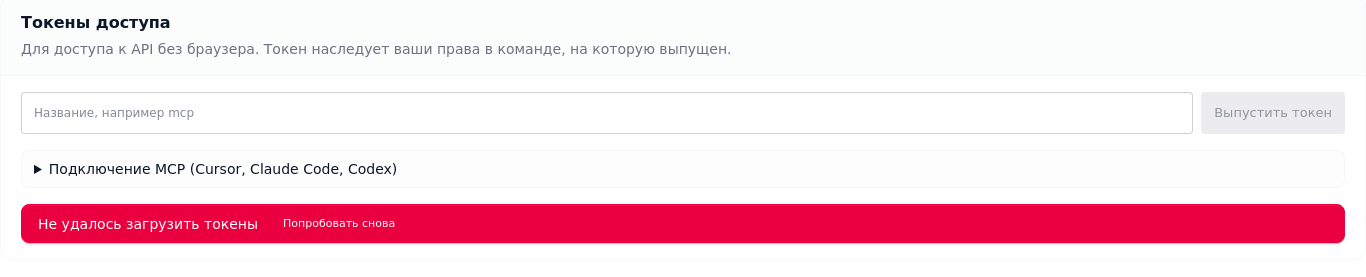
Scenario: список токенов › после ошибки загрузку можно повторить
This screenshot has width=1366, height=277.
Click the button "Попробовать снова" at (339,224), box [274,213,404,234]
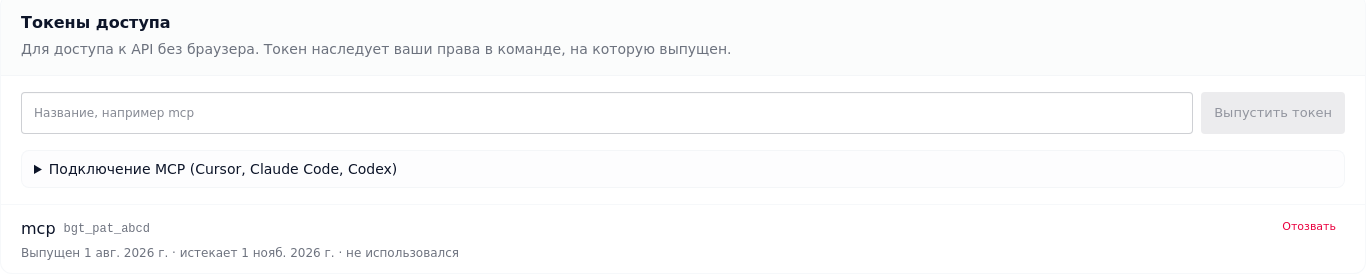
Now the text "mcp" is shown, box [21,217,56,241]
Now the text "Не удалось загрузить токены" is gone
